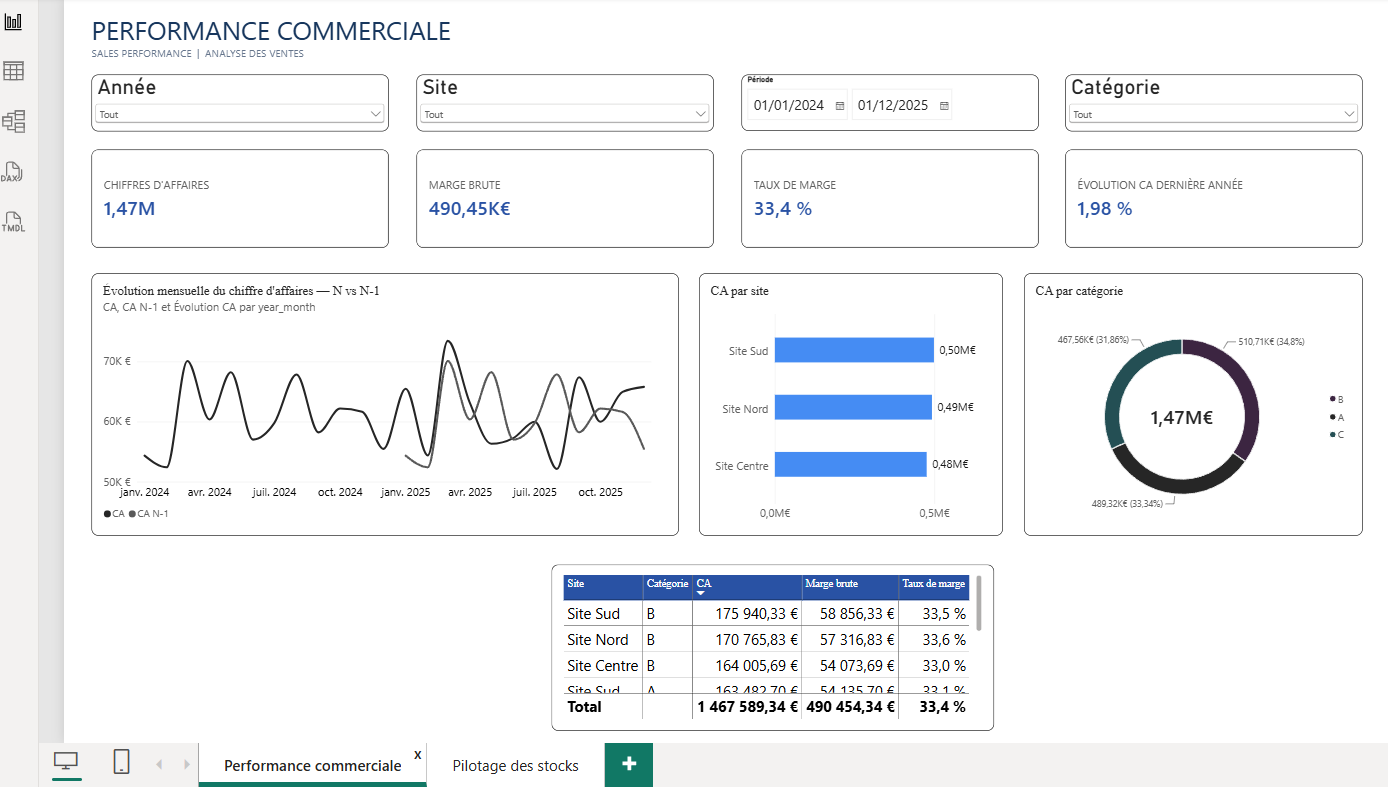

Layout of this report page (visuals, bound fields, positions):
{"tool":"powerbi","page":{"name":"Performance commerciale","canvas":[1920,1080],"ordinal":0},"visuals":[{"type":"slicer","fields":{"Values":["dim_date.year"]},"box":[40,112,430,82],"z":0},{"type":"slicer","fields":{"Values":["dim_site.site_name"]},"box":[510,112,430,82],"z":1000},{"type":"slicer","fields":{"Values":["dim_date.year_month"]},"box":[980.8,112.2,430.7,81.4],"z":2000},{"type":"slicer","fields":{"Values":["dim_product.category"]},"box":[1450,112,430,82],"z":3000},{"type":"cardVisual","title":"CHIFFRE D''AFFAIRES","fields":{"Data":["_Measures.CA"]},"box":[40,220,430,142],"z":4000},{"type":"cardVisual","fields":{"Data":["_Measures.Marge brute"]},"box":[510,220,430,142],"z":5000},{"type":"cardVisual","fields":{"Data":["_Measures.Taux de marge"]},"box":[980.8,220.8,430,142],"z":6000},{"type":"cardVisual","fields":{"Data":["_Measures.Évolution CA dernière année"]},"box":[1450,220,430,142],"z":7000},{"type":"lineChart","title":"Évolution mensuelle du chiffre d''affaires — N vs N-1","fields":{"Category":["dim_date.year_month"],"Y":["_Measures.CA","_Measures.CA N-1"]},"box":[40,400,850,380],"z":8000},{"type":"clusteredBarChart","title":"CA par site","fields":{"Category":["dim_site.site_name"],"Y":["_Measures.CA"]},"box":[920,400,440,380],"z":9000},{"type":"donutChart","title":"CA par catégorie","fields":{"Category":["dim_product.category"],"Y":["_Measures.CA"]},"box":[1390,400,490,380],"z":10000},{"type":"tableEx","fields":{"Values":["dim_site.site_name","dim_product.category","_Measures.CA","_Measures.Marge brute","_Measures.Taux de marge"]},"box":[705.8,821.6,640.6,240.7],"z":11000},{"type":"textbox","box":[40,22,800,78],"z":12000}]}

Visuals, with their boxes on the page's 1920x1080 design canvas (x1, y1, x2, y2). These are canvas units, not pixel positions in the 1388x787 screenshot, which may show the page scaled, cropped or inside an application window:
slicer - dim_date.year: box(40, 112, 470, 194)
slicer - dim_site.site_name: box(510, 112, 940, 194)
slicer - dim_date.year_month: box(981, 112, 1412, 194)
slicer - dim_product.category: box(1450, 112, 1880, 194)
"CHIFFRE D''AFFAIRES" cardVisual: box(40, 220, 470, 362)
cardVisual - _Measures.Marge brute: box(510, 220, 940, 362)
cardVisual - _Measures.Taux de marge: box(981, 221, 1411, 363)
cardVisual - _Measures.Évolution CA dernière année: box(1450, 220, 1880, 362)
"Évolution mensuelle du chiffre d''affaires — N vs N-1" lineChart: box(40, 400, 890, 780)
"CA par site" clusteredBarChart: box(920, 400, 1360, 780)
"CA par catégorie" donutChart: box(1390, 400, 1880, 780)
tableEx - dim_site.site_name x dim_product.category: box(706, 822, 1346, 1062)
textbox: box(40, 22, 840, 100)
